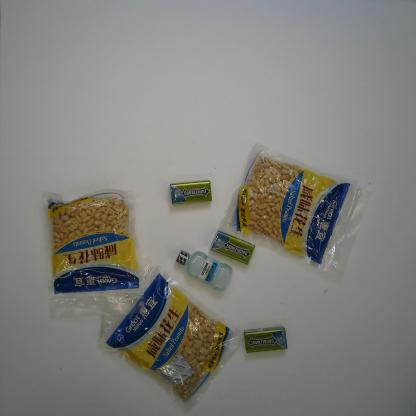Dried Fruit: (96, 260, 244, 416), (220, 142, 375, 278), (42, 188, 146, 320)
Gum: (209, 230, 256, 266), (243, 326, 288, 354), (169, 180, 212, 206)
Personal Hygiene: (175, 250, 233, 289)
